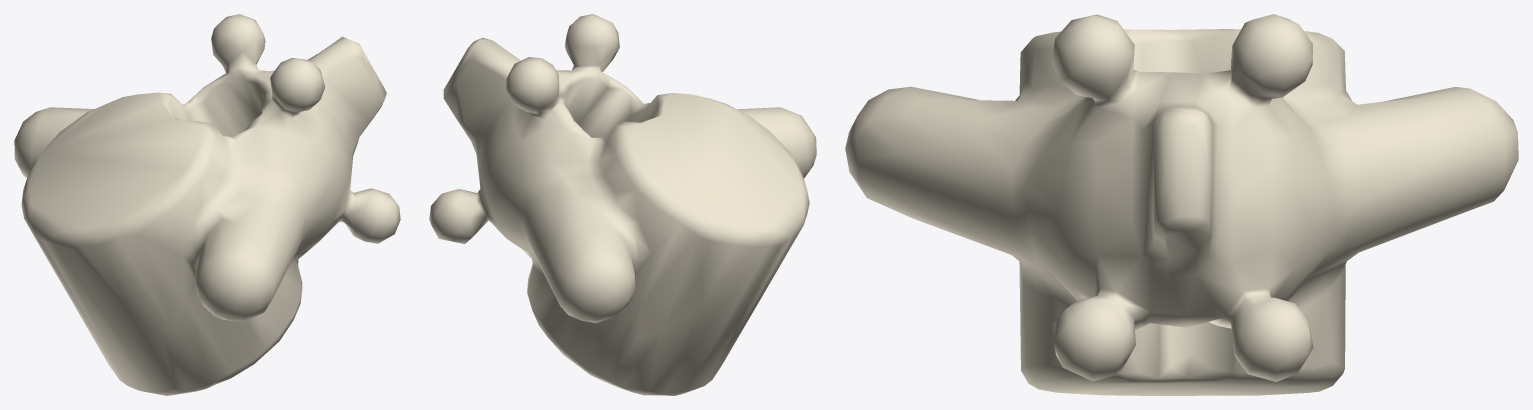
Rendered from cervical_5.glb.
The picture shows the model from 3 angles, left to right: view 1: azimuth 30°, elevation 25°; view 2: azimuth 150°, elevation 25°; view 3: azimuth 270°, elevation 25°; orthographic projection. The views are drawn at different scales.
Parts seen in each view (by area): view 1: geometry_0; view 2: geometry_0; view 3: geometry_0.
Part boxes in pixels (<box>): geometry_0: <box>14,14,400,395</box>; geometry_0: <box>429,14,816,395</box>; geometry_0: <box>845,14,1518,395</box>.
Bounding box in the file's own units: 0.2899 × 0.2522 × 0.3234.
